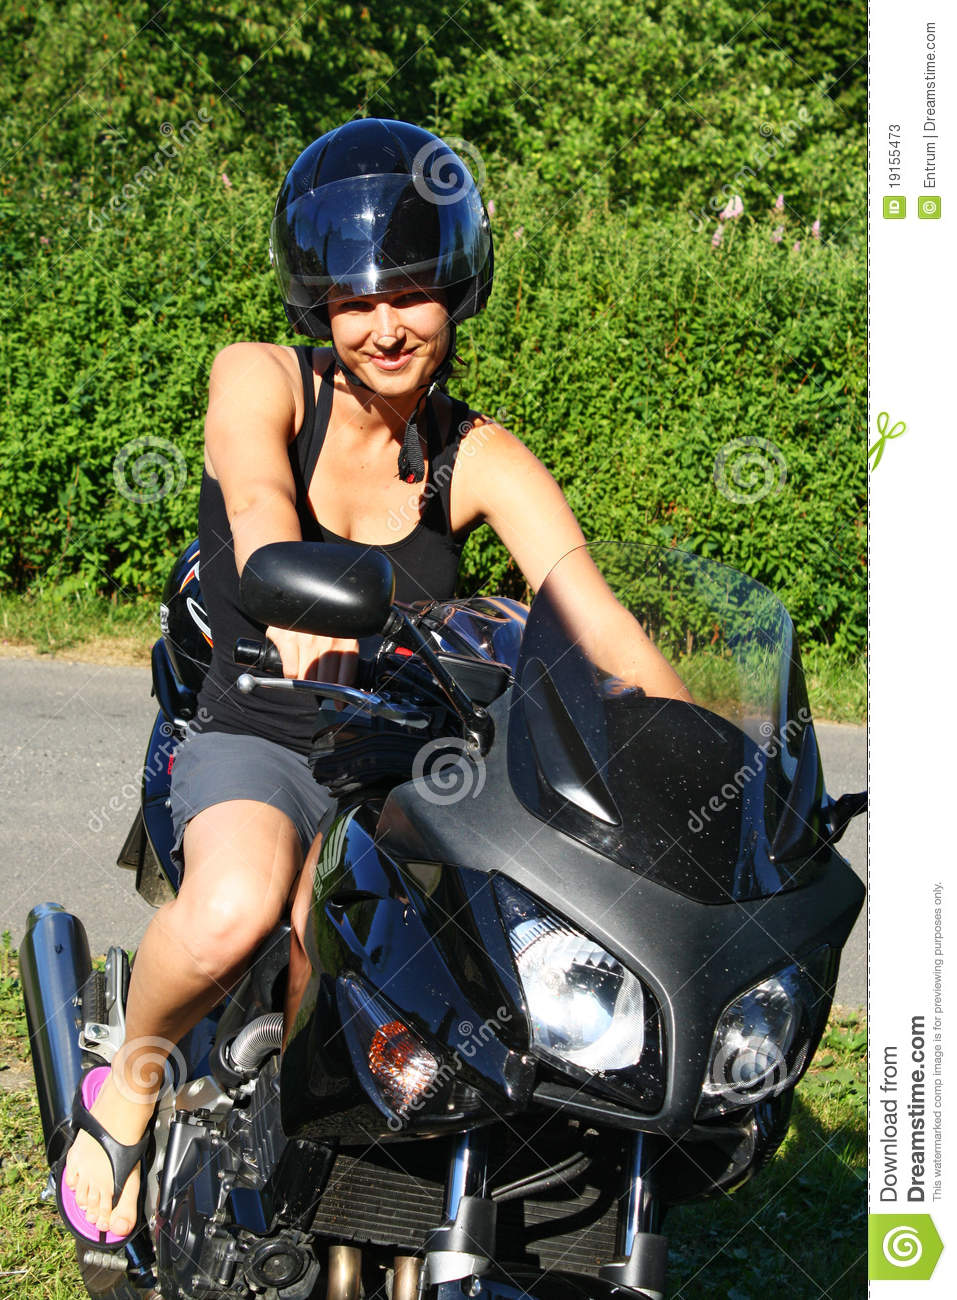helmet: (270, 135, 488, 317)
